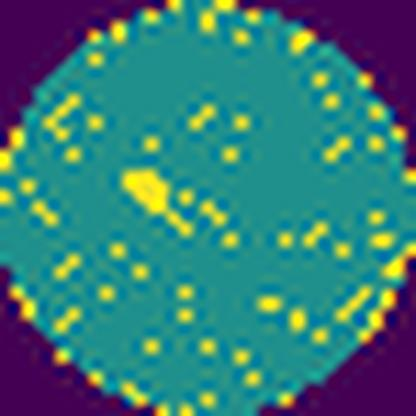Loc: (120, 164, 194, 237)
